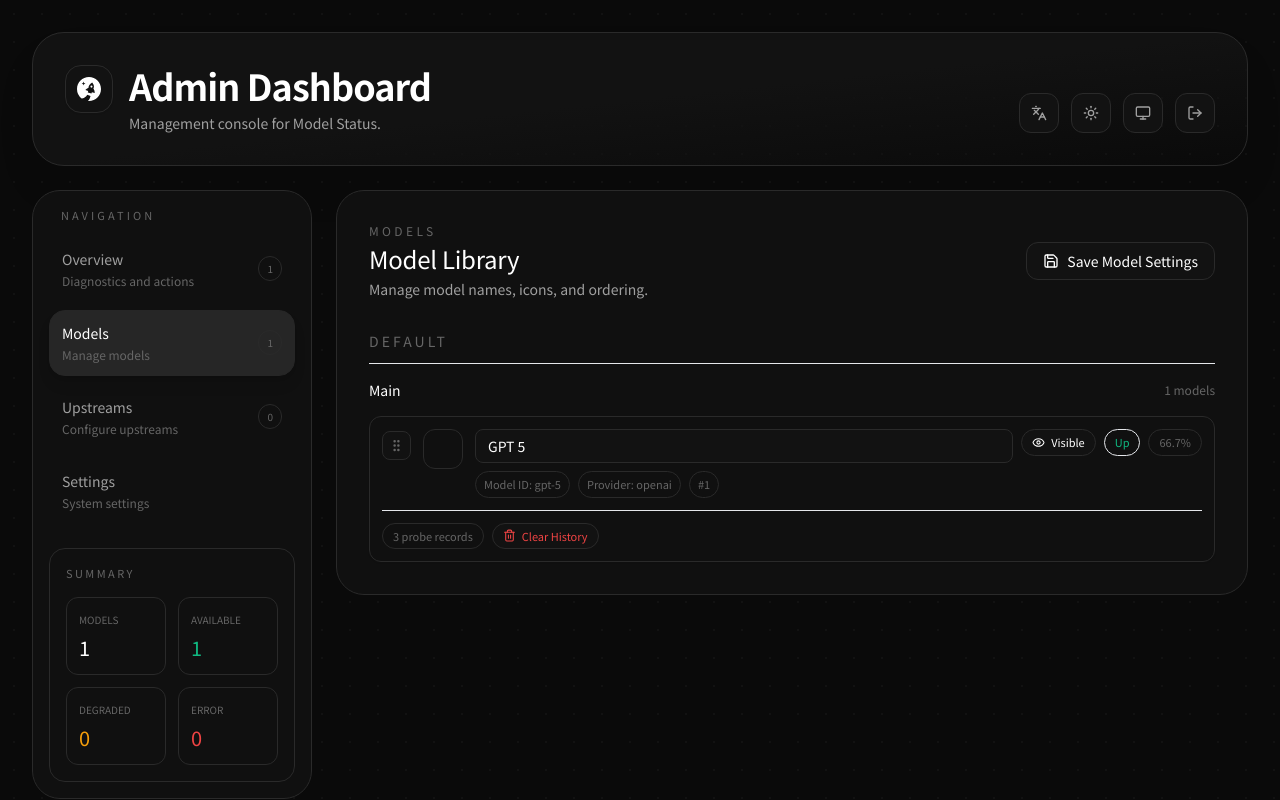
Test: AdminPanel › clears probe history for a single model from the models section
Expected: the text "3 probe records" is shown, [382,522,484,549]
Step 1. Click the button "Clear History" → (545, 536), box [492,522,599,549]
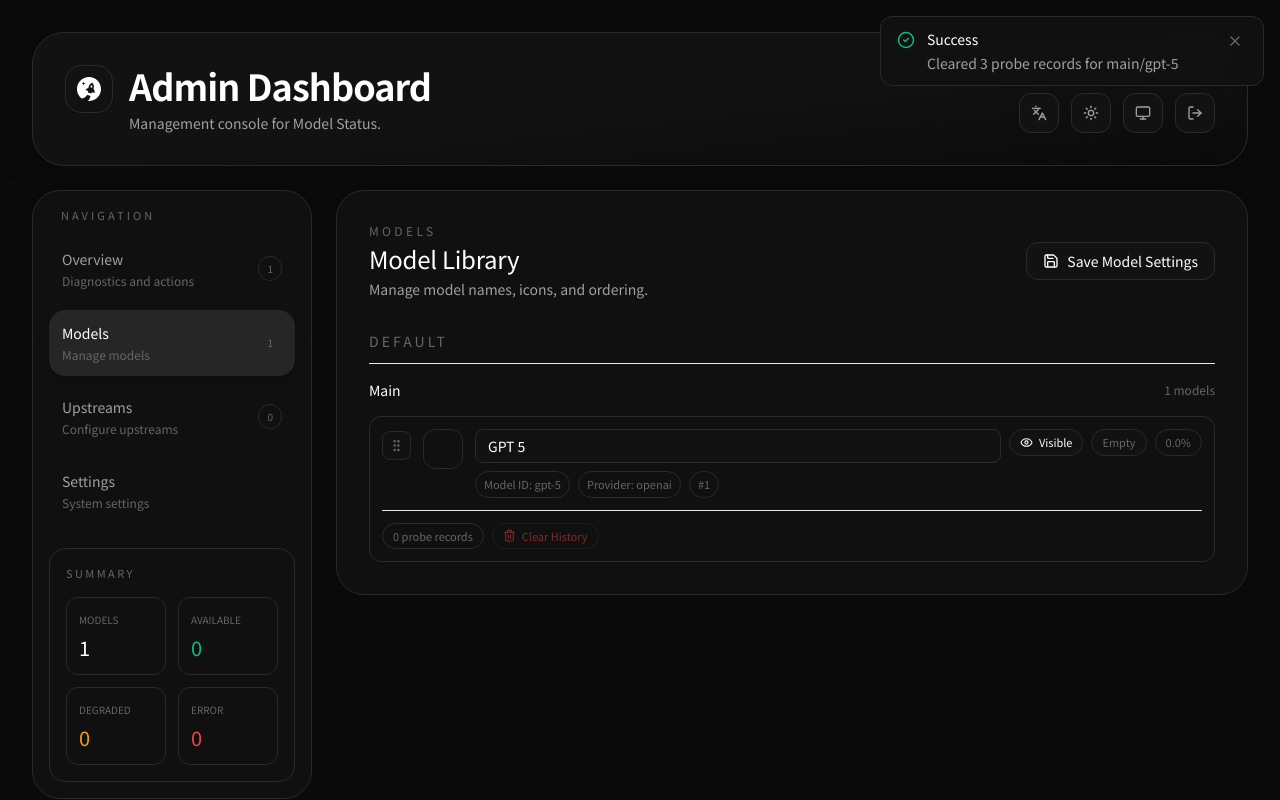
Expected: the text "Cleared 3 probe records for main/gpt-5" is shown, [927,53,1211,73]
Expected: the text "0 probe records" is shown, [382,522,484,549]
